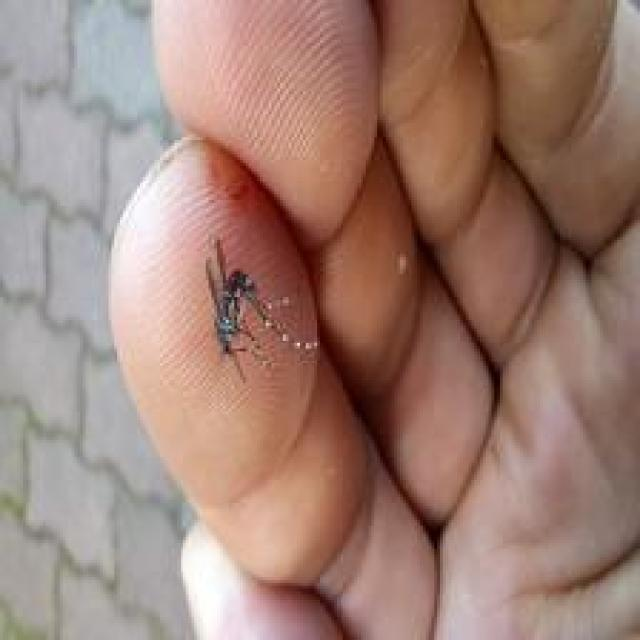Aedes albopictus: (203, 234, 320, 383)
